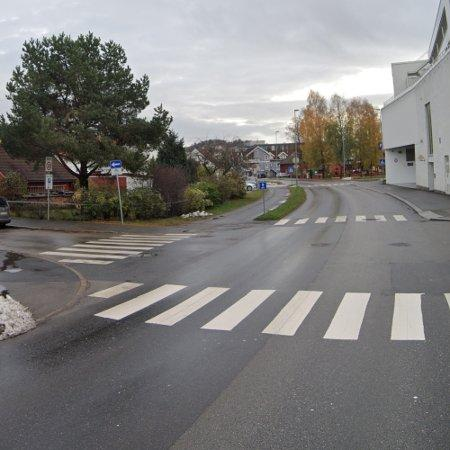crosswalks: (88, 280, 430, 341)
